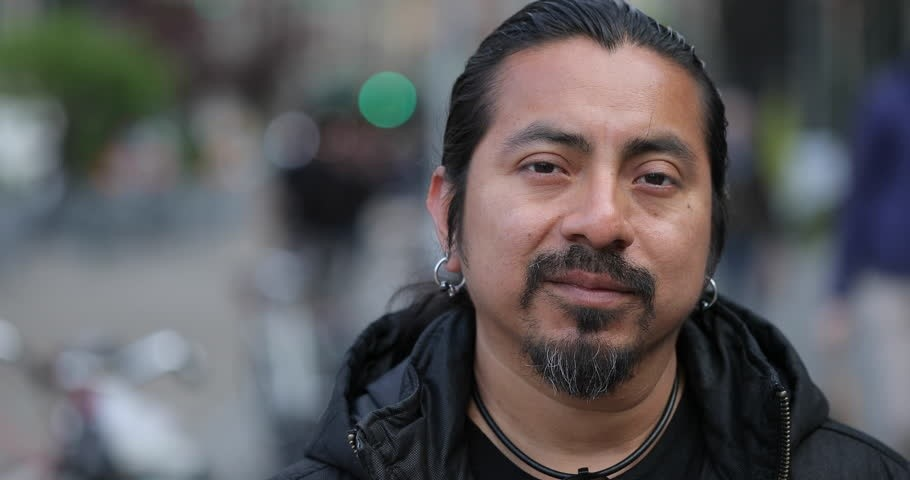face_no_mask: (425, 0, 733, 405)
